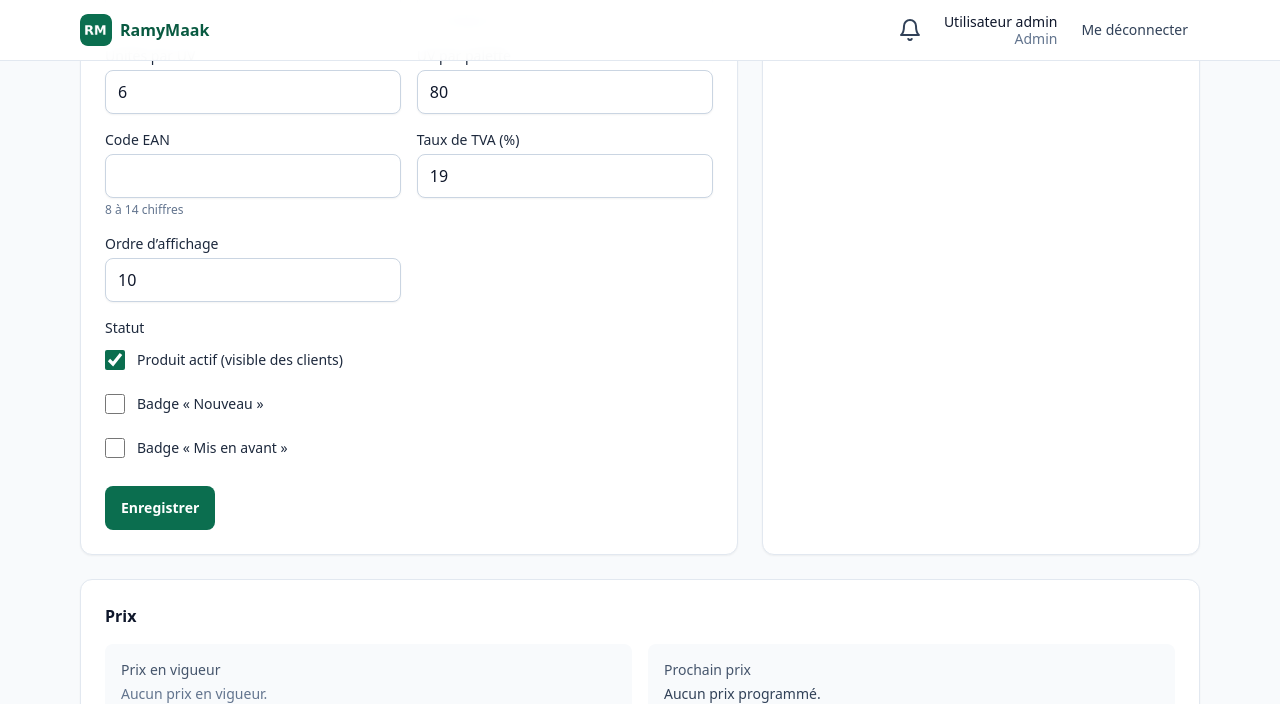
it: back-office — scheduled product deactivation (RG-Q07) › shows the scheduled deactivation instead of « saved » after deactivating a product with a published quota today
This screenshot has width=1280, height=704.
(page scrolled)
Click the checkbox labelled "Produit actif (visible des clients)".
click(115, 360)  # box [105,350,125,370]
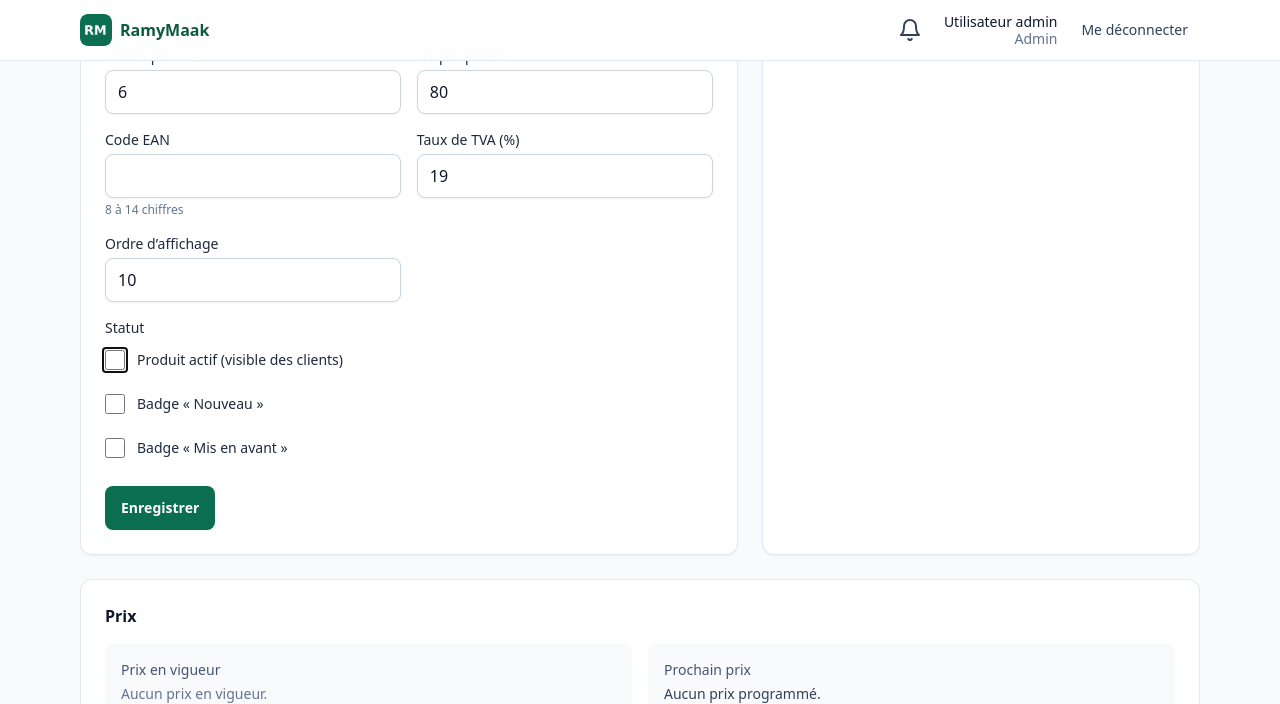
Click the button "Enregistrer".
click(160, 508)  # box [105,486,215,530]
(page scrolled)
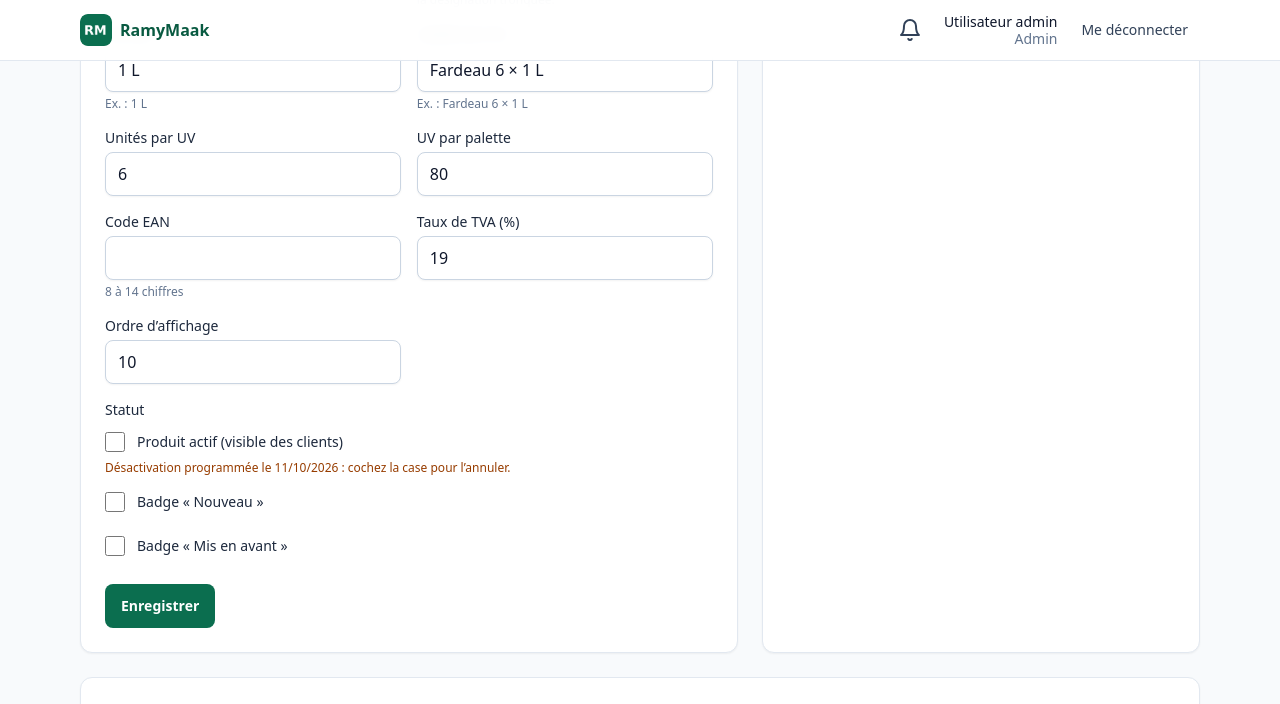
Check: the checkbox labelled "Produit actif (visible des clients)" is not checked, box [105,432,125,452]
Check: the text "Désactivation programmée le 11/10/2026 : cochez la case pour l’annuler." is shown, box [105,459,510,476]
